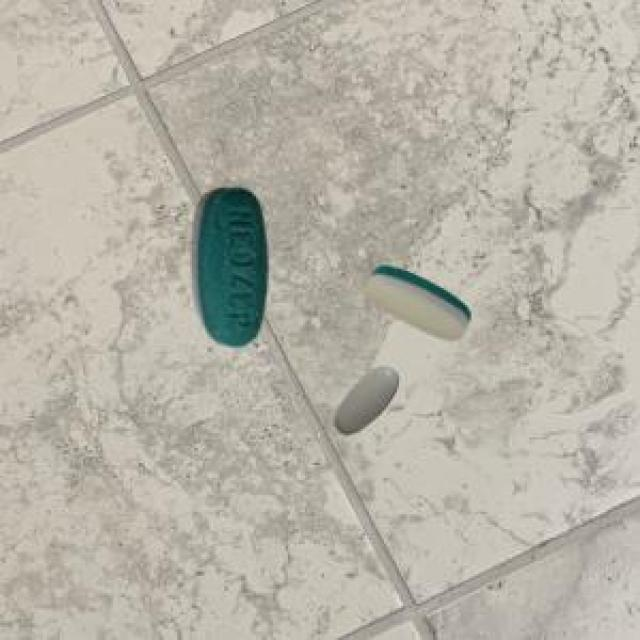Neozep: (179, 160, 280, 358), (364, 248, 481, 351), (324, 362, 409, 449)
